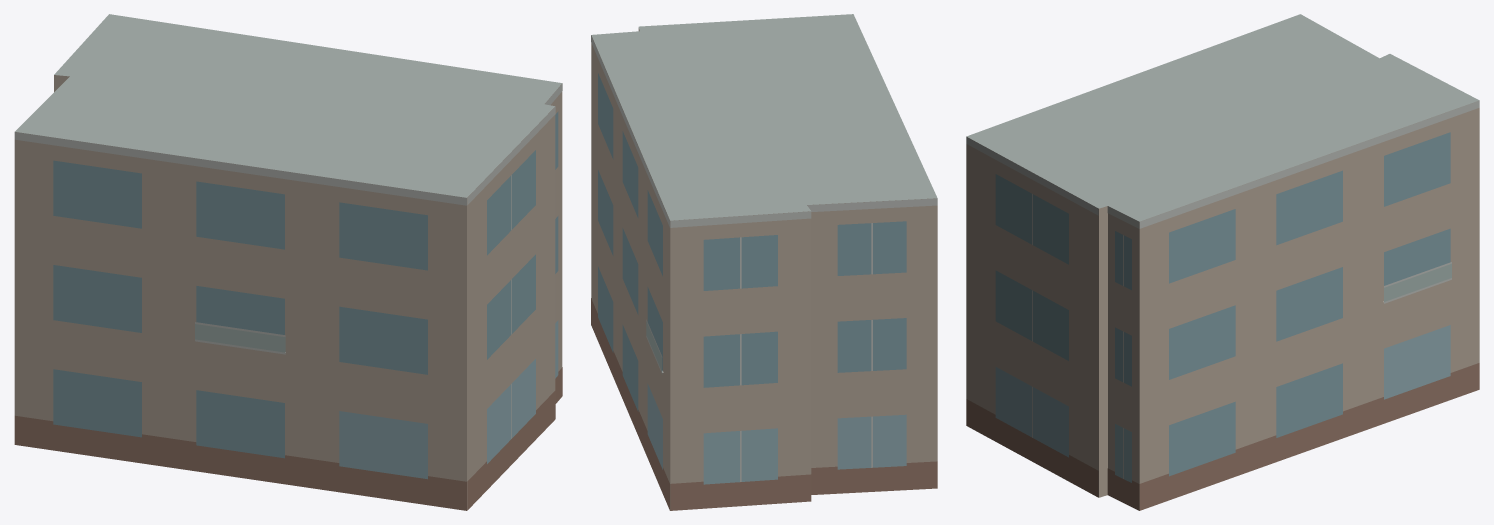
File: survey-upis-32500371.glb
3 renders of one model, left to right at view 1: azimuth 30°, elevation 25°; view 2: azimuth 150°, elevation 25°; view 3: azimuth 270°, elevation 25°, orthographic. The views are drawn at different scales.
Parts seen in each view (by area): view 1: survey-upis-32500371.tmp; view 2: survey-upis-32500371.tmp; view 3: survey-upis-32500371.tmp.
Boxes of the visible parts, x1,y1,x2,y2 form: survey-upis-32500371.tmp: (14, 14, 562, 510); survey-upis-32500371.tmp: (591, 14, 937, 510); survey-upis-32500371.tmp: (966, 14, 1479, 510).
Bounding box in the file's own units: 14.95 × 9.7 × 15.62.
